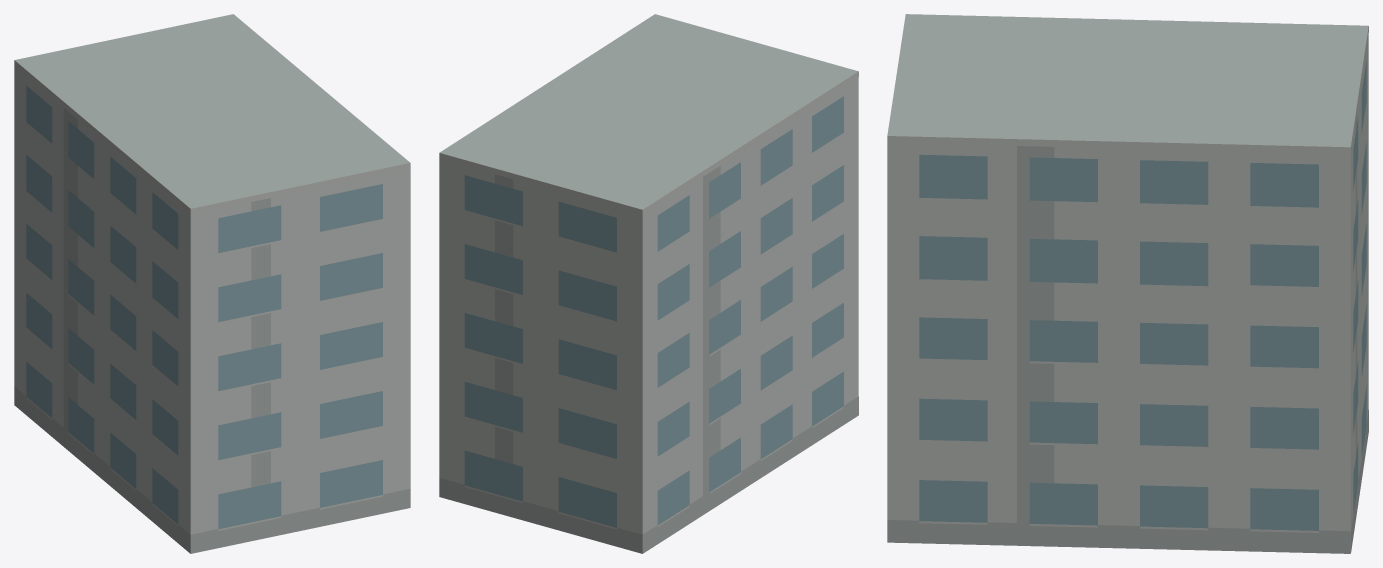
Rendered from survey-upis-32894124.glb.
The picture shows the model from 3 angles, left to right: view 1: azimuth 30°, elevation 25°; view 2: azimuth 150°, elevation 25°; view 3: azimuth 270°, elevation 25°; orthographic projection. The views are drawn at different scales.
Visible parts, largest first — view 1: survey-upis-32894124.tmp; view 2: survey-upis-32894124.tmp; view 3: survey-upis-32894124.tmp.
Part boxes in pixels (<box>): survey-upis-32894124.tmp: <box>14,14,410,553</box>; survey-upis-32894124.tmp: <box>439,14,858,553</box>; survey-upis-32894124.tmp: <box>887,14,1368,553</box>.
Bounding box in the file's own units: 10.13 × 14.4 × 15.46.
